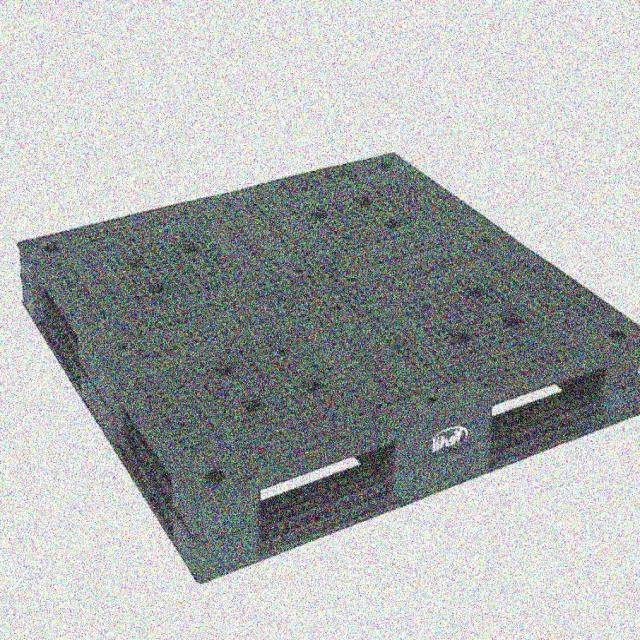non-igps: (12, 142, 639, 592)
